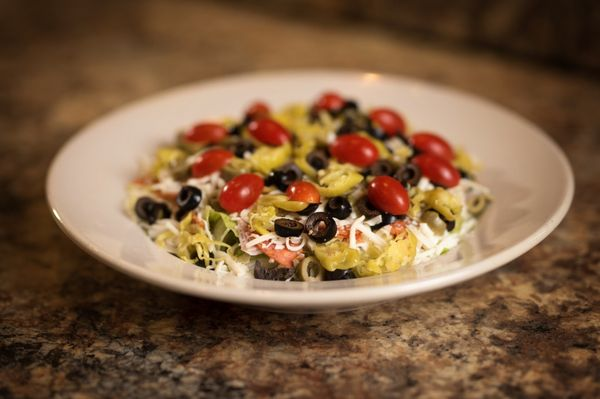curry: (7, 2, 598, 394)
sandwich: (124, 90, 513, 285)
